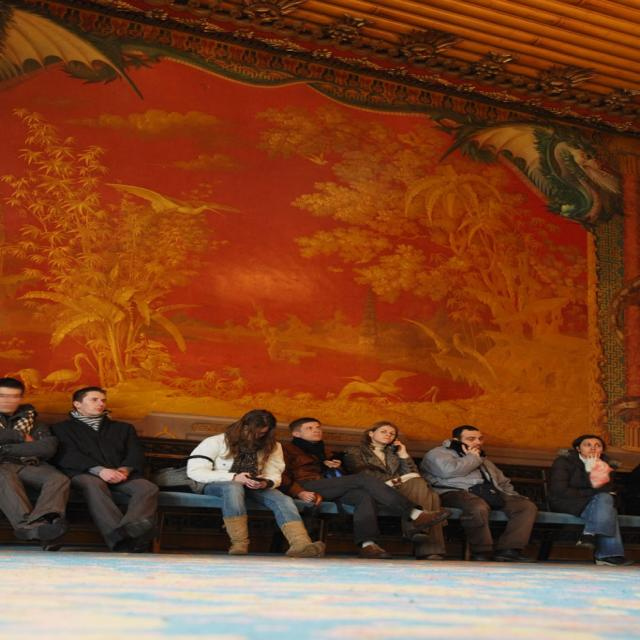body: (276, 416, 456, 560), (184, 408, 327, 559), (46, 384, 162, 555), (415, 423, 541, 563), (336, 419, 448, 561), (544, 432, 638, 567), (0, 377, 72, 542), (624, 464, 639, 516)
